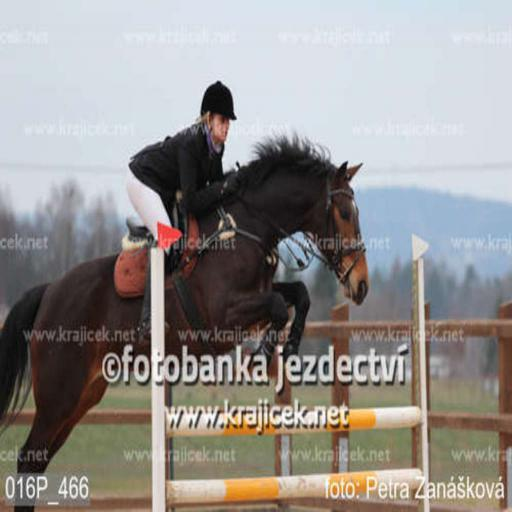Horse: (0, 128, 372, 510)
